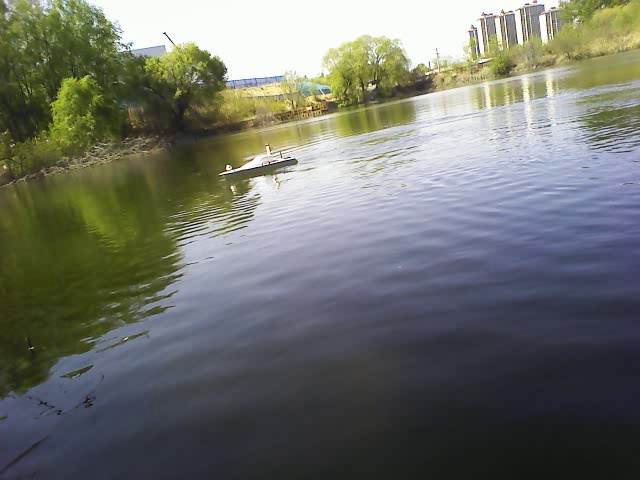boat: (218, 149, 303, 180)
